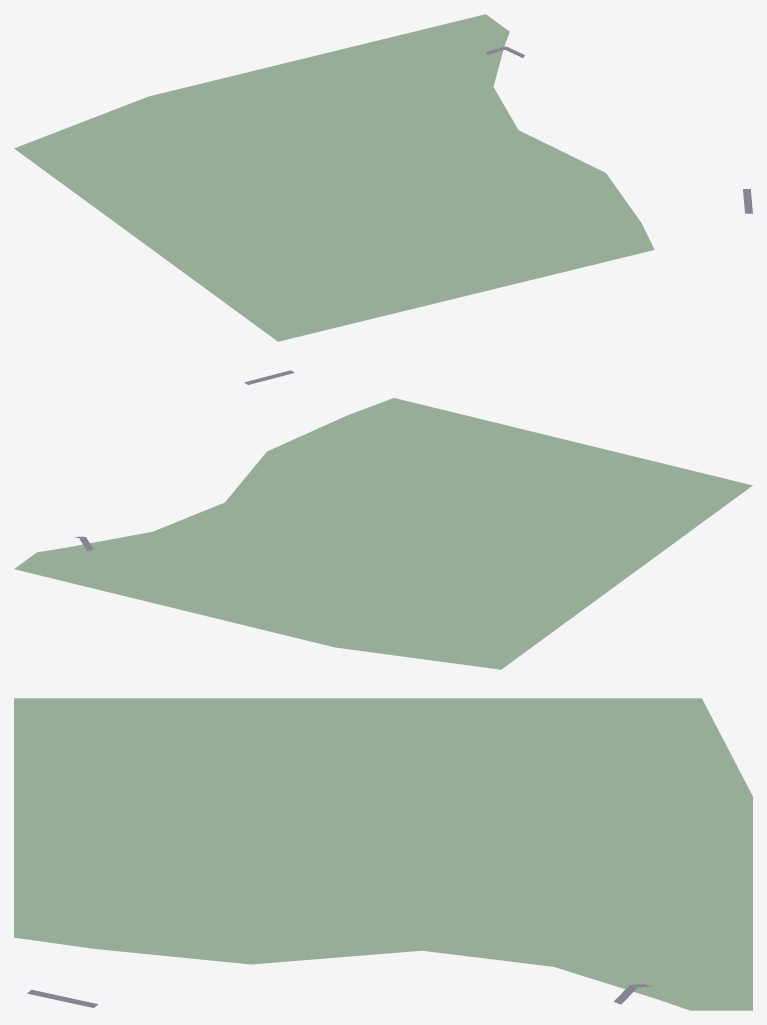
File: 94_102_mid.glb
3 views of the same model, one above another, from view 1: azimuth 30°, elevation 25°; view 2: azimuth 150°, elevation 25°; view 3: azimuth 270°, elevation 25° (orthographic). The views are drawn at different scales.
Size of the model in its own units: 512 by 8.54 by 500.
